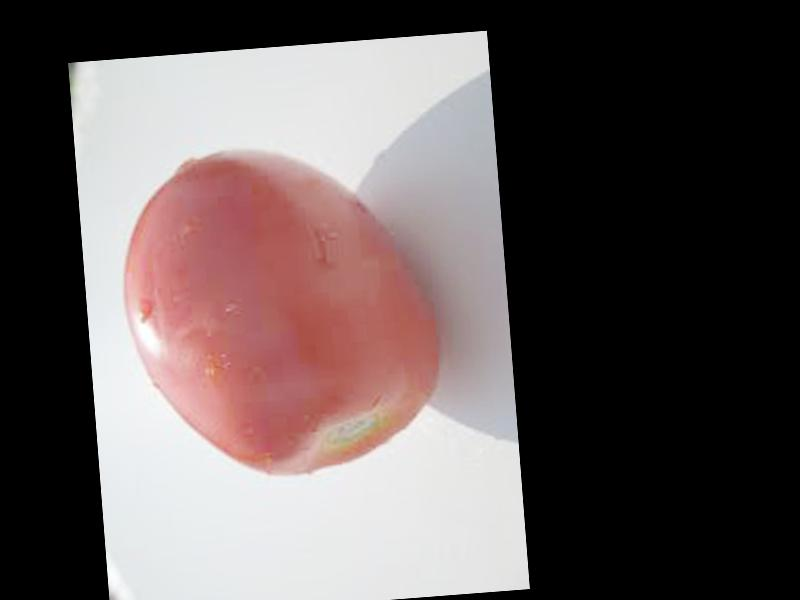Tomato: (112, 137, 446, 486)
